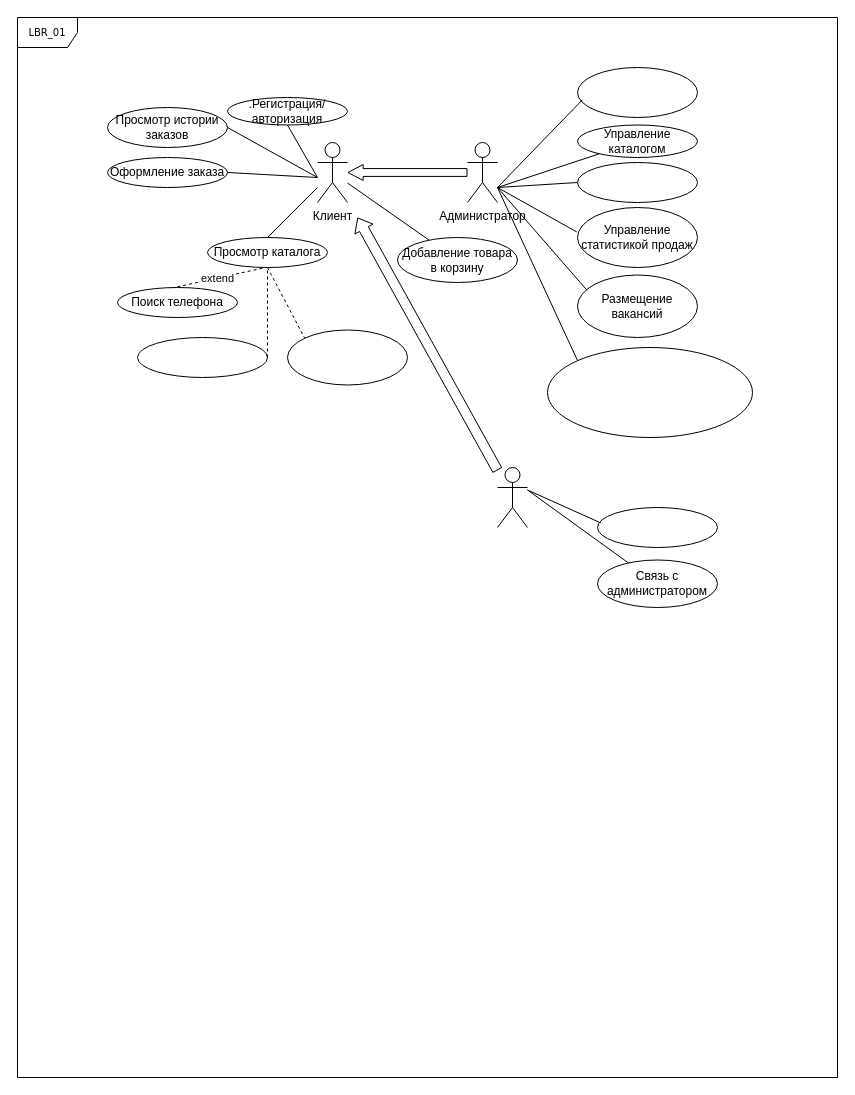
Some shapes in this 855 by 1095 pixel diagram are drawn without their labels. Each missing label, with the centre of its shape:
"Блокировка функционала приложения" belongs at [637,92].
"Консультация с клиентом" belongs at [657,527].
"Просмотр деталей телефонов" belongs at [202,357].
"Просмотр сведений о доставке" belongs at [347,357].
"Размещение информации в приложении об акциях, пользовательском соглашении и т.д." belongs at [649,392].
"Сотрудник техподдержки" belongs at [512,497].
"Управление аккаунтами пользователей" belongs at [637,182].
